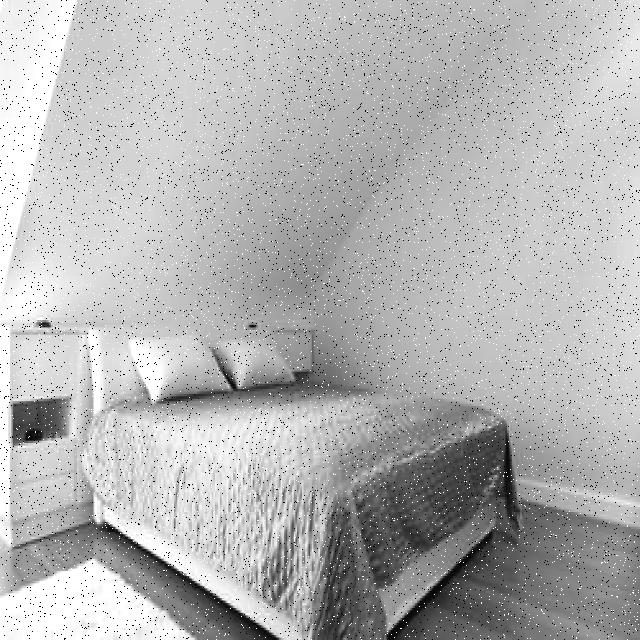bed: (102, 322, 515, 608)
